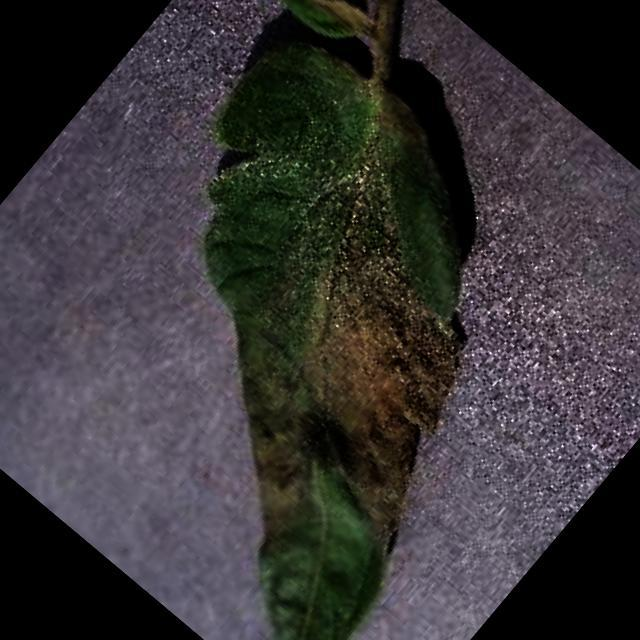Tomato late blight leaf: (0, 6, 635, 640)
